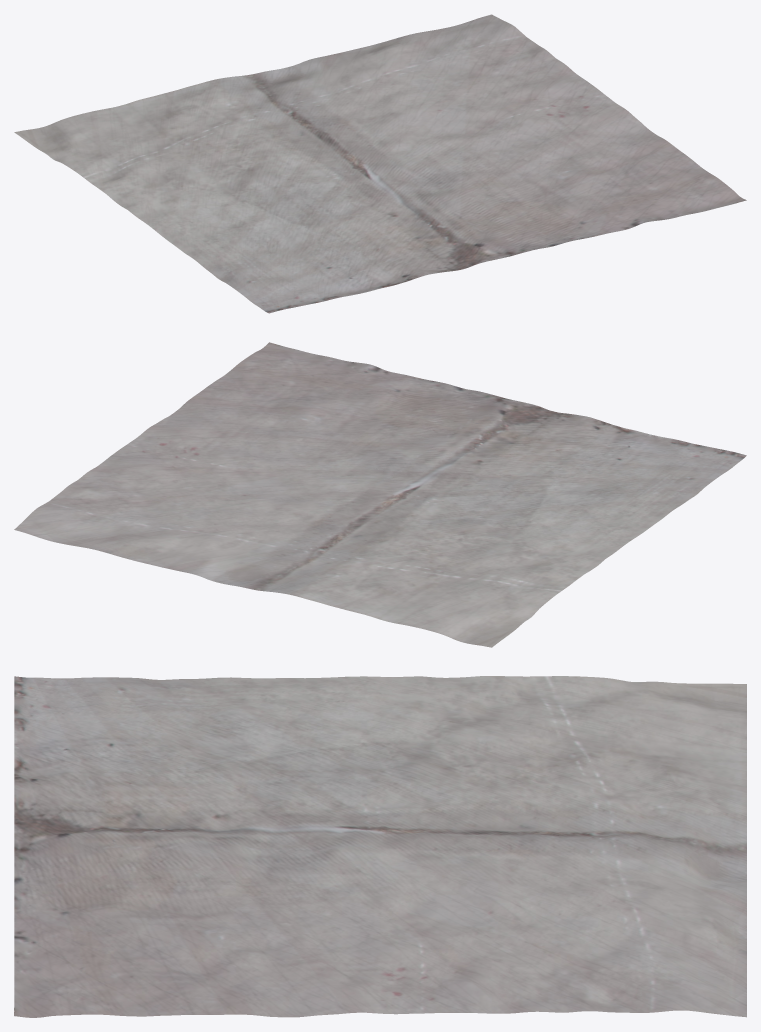
File: Floor_Chunk2.fbx
3 renders of one model, top to bottom at view 1: azimuth 30°, elevation 25°; view 2: azimuth 150°, elevation 25°; view 3: azimuth 270°, elevation 25°, orthographic. The views are drawn at different scales.
Parts seen in each view (by area): view 1: Model; view 2: Model; view 3: Model.
Boxes of the visible parts, box(x1,y1,x2,y2) form: Model: box(14, 14, 746, 313); Model: box(14, 342, 746, 647); Model: box(14, 676, 746, 1017).
Size of the model in its own units: 3.2 by 0.0659 by 2.96.
